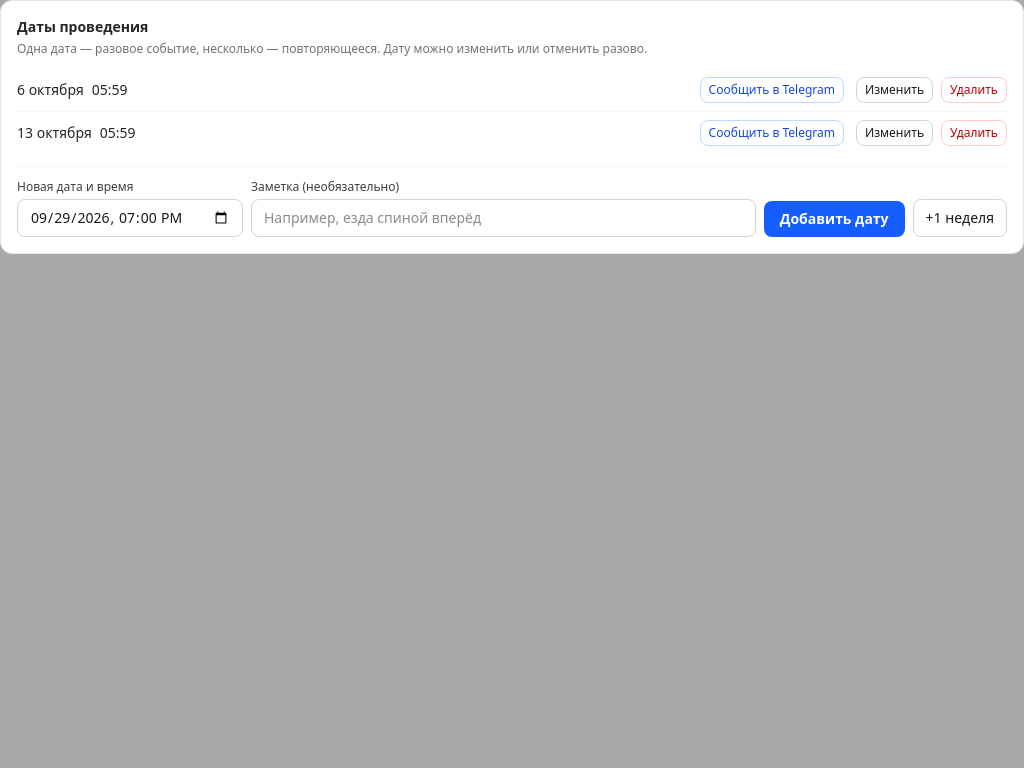
Scenario: EventDatesManager › удаление даты › после удаления предпоследней даты оставшаяся становится неудаляемой
Click the button "Удалить" in the row of "6 октября": (974, 90) top-left (941, 77), bottom-right (1007, 103)
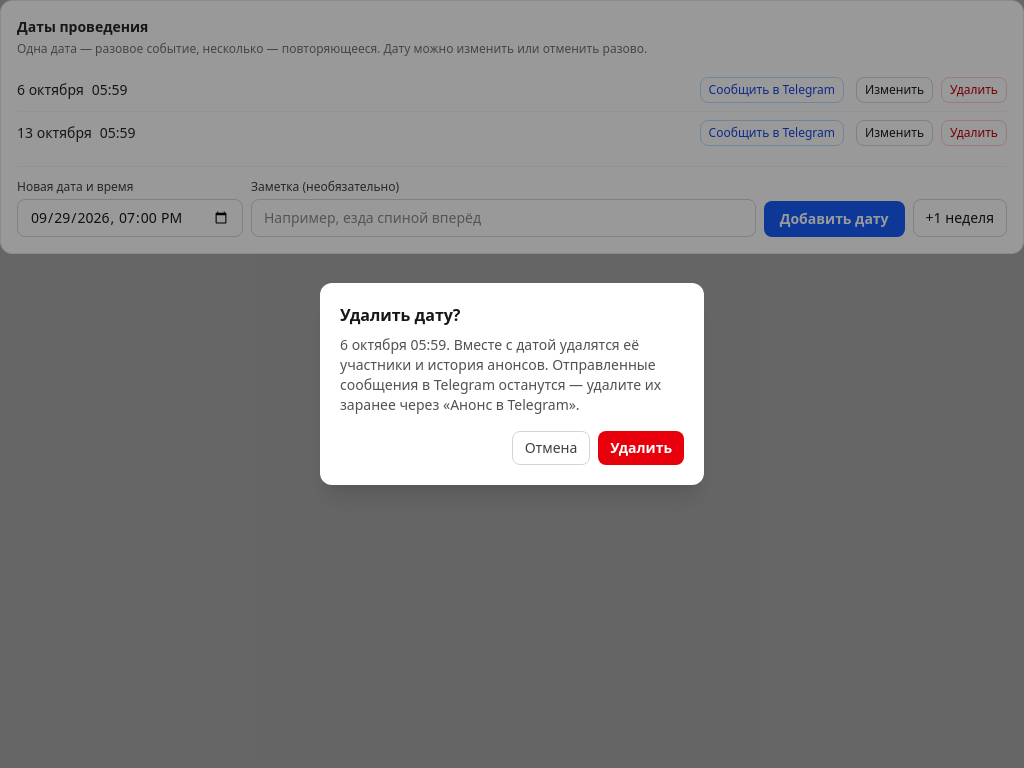
Click the button "Удалить": (641, 448) top-left (598, 431), bottom-right (684, 465)
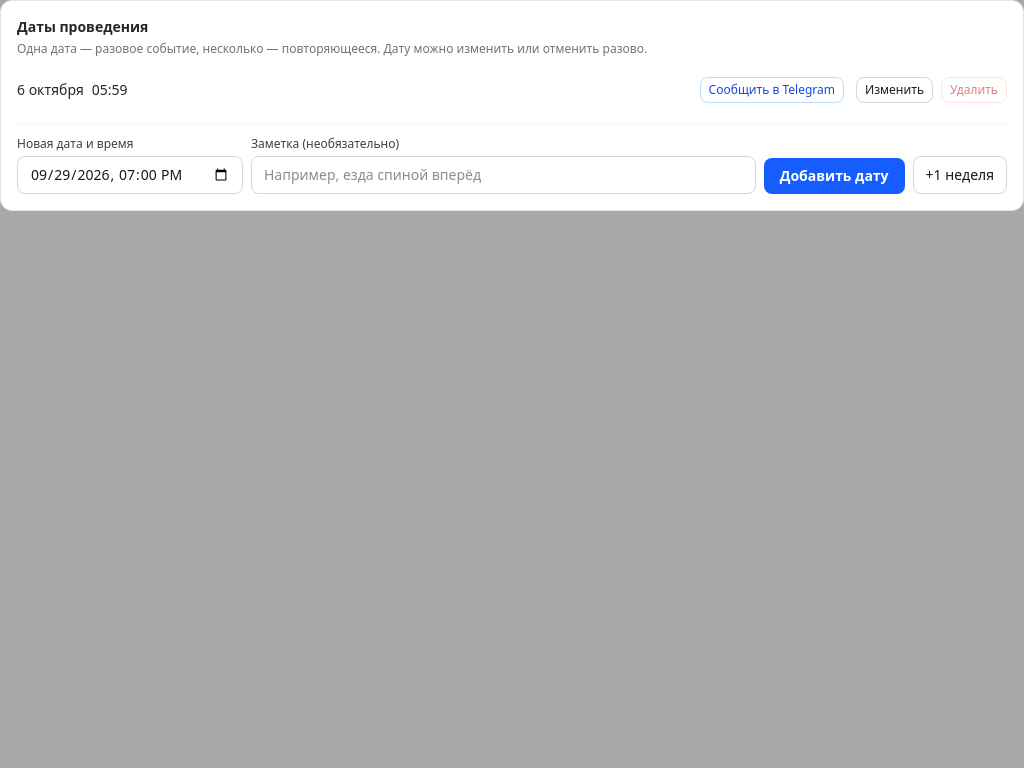
Now the button "Удалить" is disabled, box top-left (941, 77), bottom-right (1007, 103)
